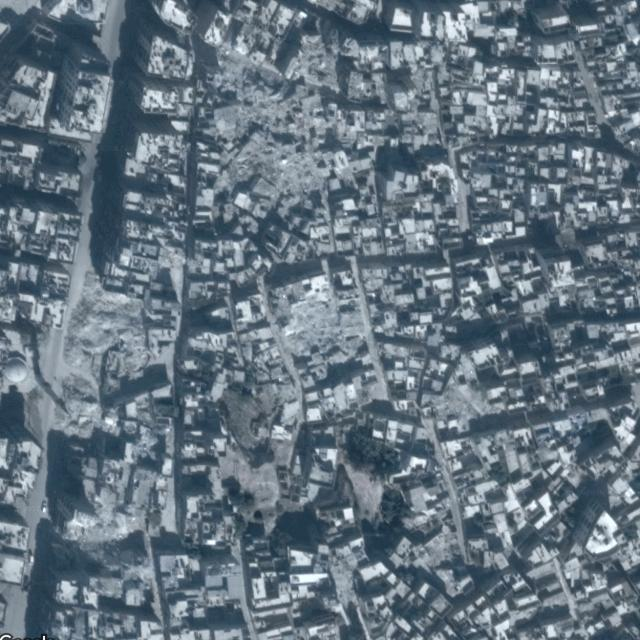damaged_building: (199, 14, 353, 209), (54, 273, 158, 448), (263, 266, 369, 366), (54, 492, 153, 579)
